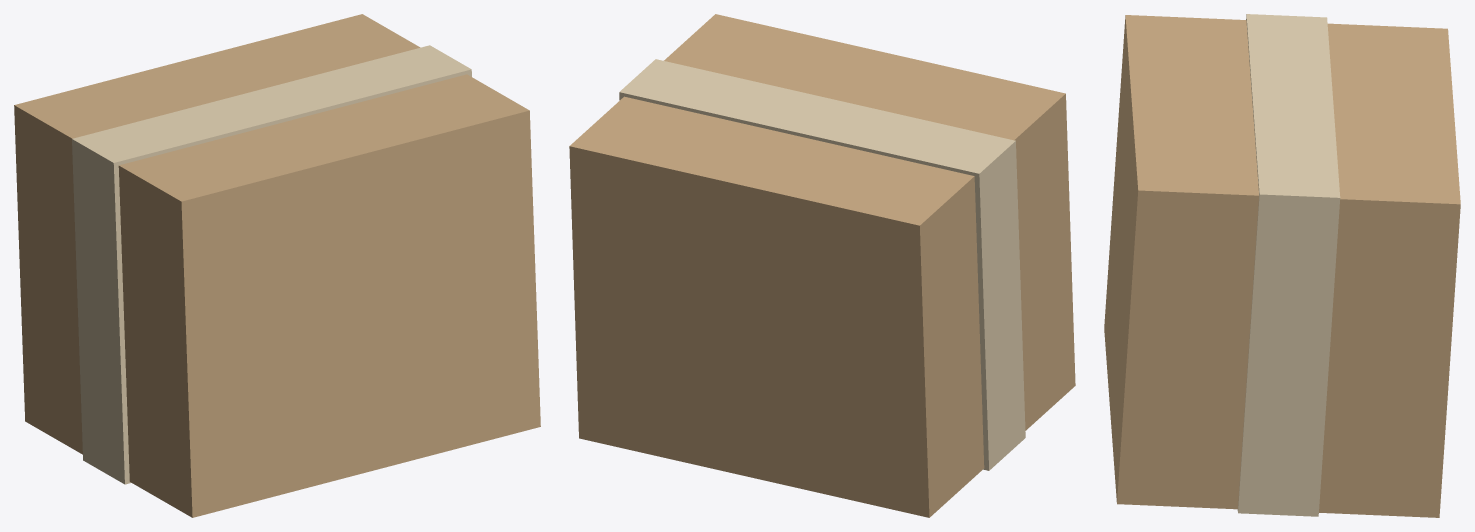
3 renders of one model, left to right at view 1: azimuth 30°, elevation 25°; view 2: azimuth 150°, elevation 25°; view 3: azimuth 270°, elevation 25°, orthographic. The views are drawn at different scales.
Parts seen in each view (by area): view 1: Box_Body, Box_Tape; view 2: Box_Body, Box_Tape; view 3: Box_Body, Box_Tape.
Boxes of the visible parts, left/top/right/bottom form: Box_Body: left=14, top=14, right=540, bottom=517; Box_Tape: left=72, top=45, right=471, bottom=484; Box_Body: left=569, top=14, right=1075, bottom=517; Box_Tape: left=619, top=59, right=1025, bottom=470; Box_Body: left=1104, top=15, right=1460, bottom=517; Box_Tape: left=1237, top=14, right=1340, bottom=516.
Bounding box in the file's own units: 0.3725 × 0.3166 × 0.3088.
